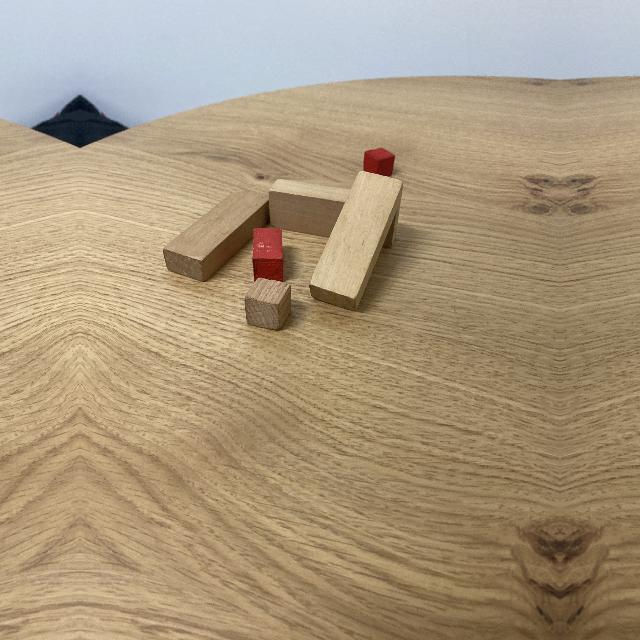cube: (245, 276, 292, 330)
jenga: (309, 170, 403, 312), (162, 186, 270, 285), (269, 178, 351, 238)
red block: (253, 228, 283, 283)
red cube: (363, 147, 395, 176)
